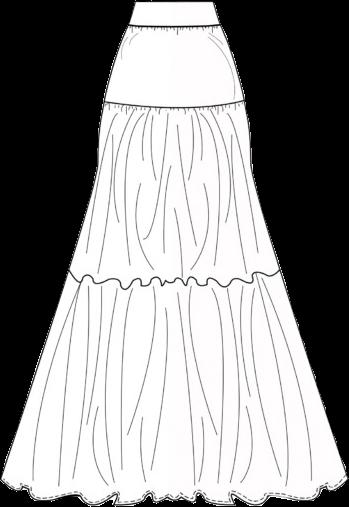Hemline: (0, 475, 346, 506)
Waistline: (67, 267, 280, 293), (101, 97, 246, 111), (127, 22, 222, 32), (133, 0, 215, 5)
